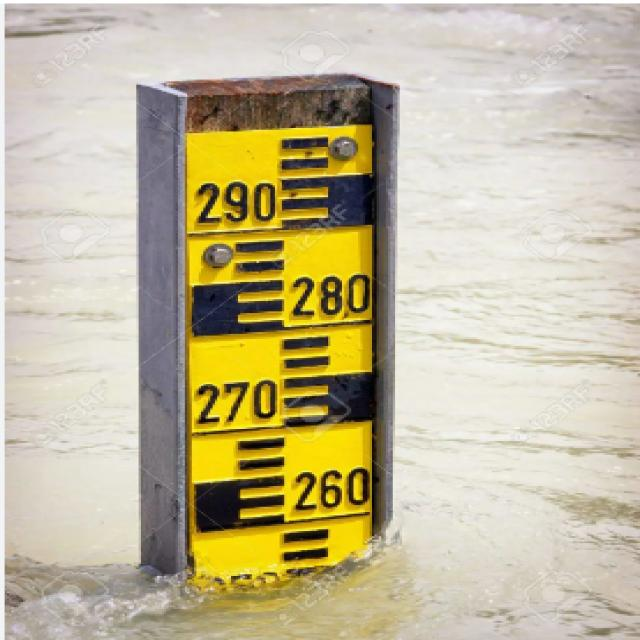ruler: (158, 105, 410, 585)
value: (186, 176, 288, 230), (188, 374, 290, 428), (284, 462, 376, 518), (283, 269, 377, 322)
